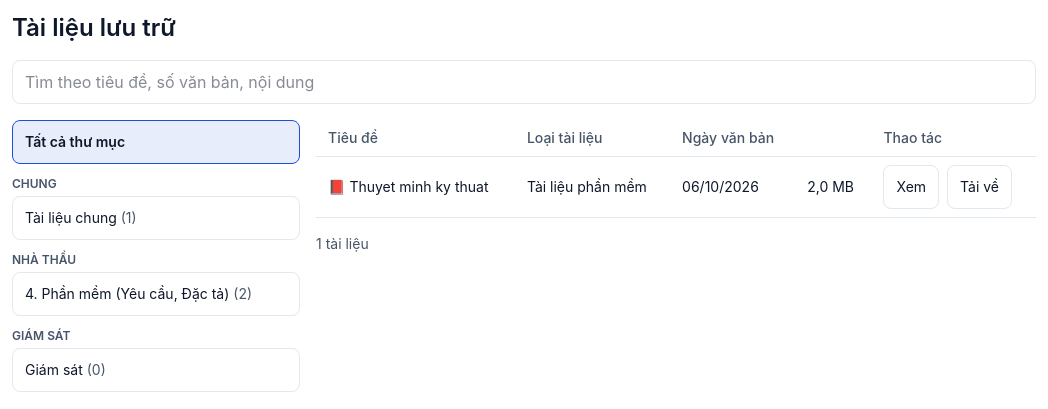
project documents (archive) › asks the API for the chosen folder only
Click the button "Giám sát (0)" at (54, 370), box [12,348,300,392]
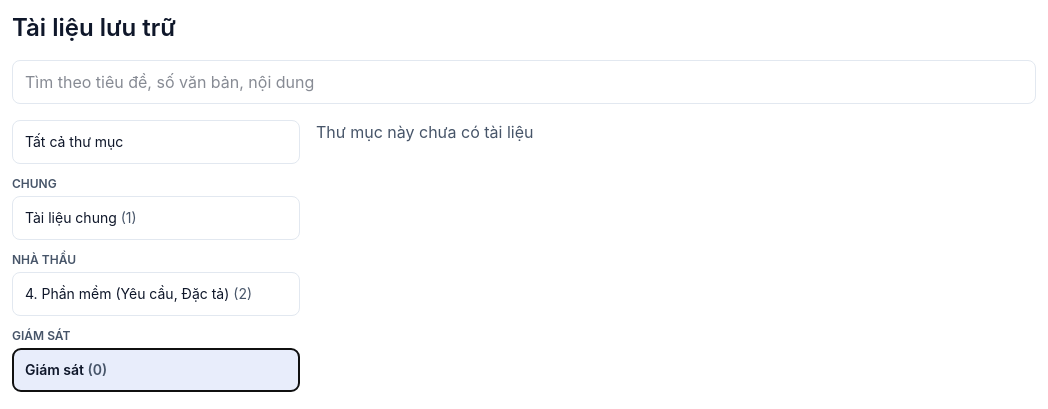
Check: the text "Thư mục này chưa có tài liệu" is shown, box [316,122,534,142]
